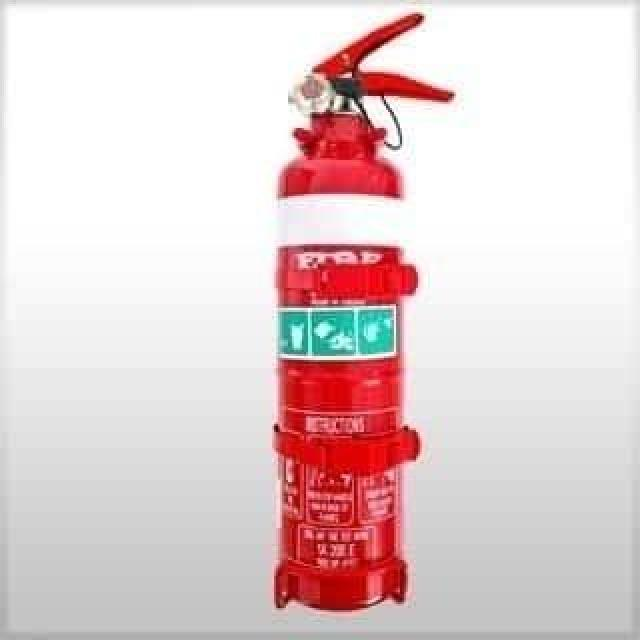fire_extinguisher: (263, 6, 461, 614)
